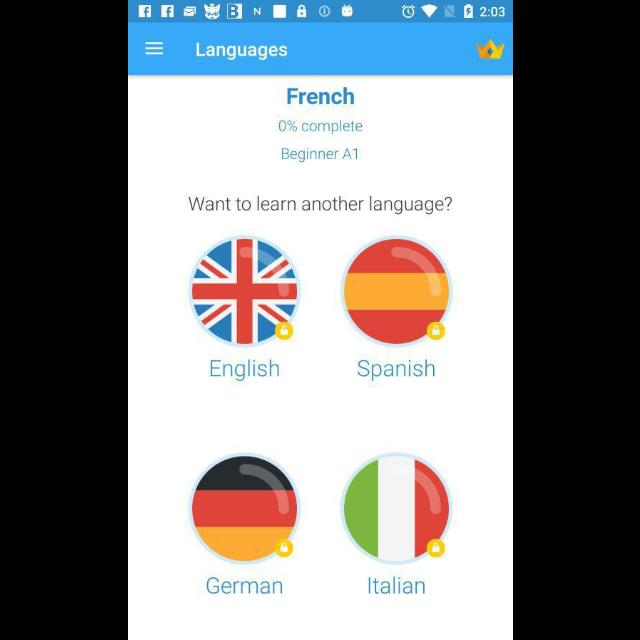icon: (144, 42, 164, 56)
image: (340, 453, 452, 565), (188, 453, 300, 565), (340, 235, 452, 347), (188, 236, 300, 348), (476, 40, 504, 60)
text: (188, 197, 452, 216), (358, 359, 434, 381), (196, 43, 288, 61), (210, 359, 278, 381), (206, 576, 282, 594), (286, 87, 354, 105), (281, 148, 357, 164), (278, 120, 362, 134), (368, 576, 424, 594)
toolbar: (128, 24, 512, 74)
uppertaskbar: (128, 1, 512, 23)
